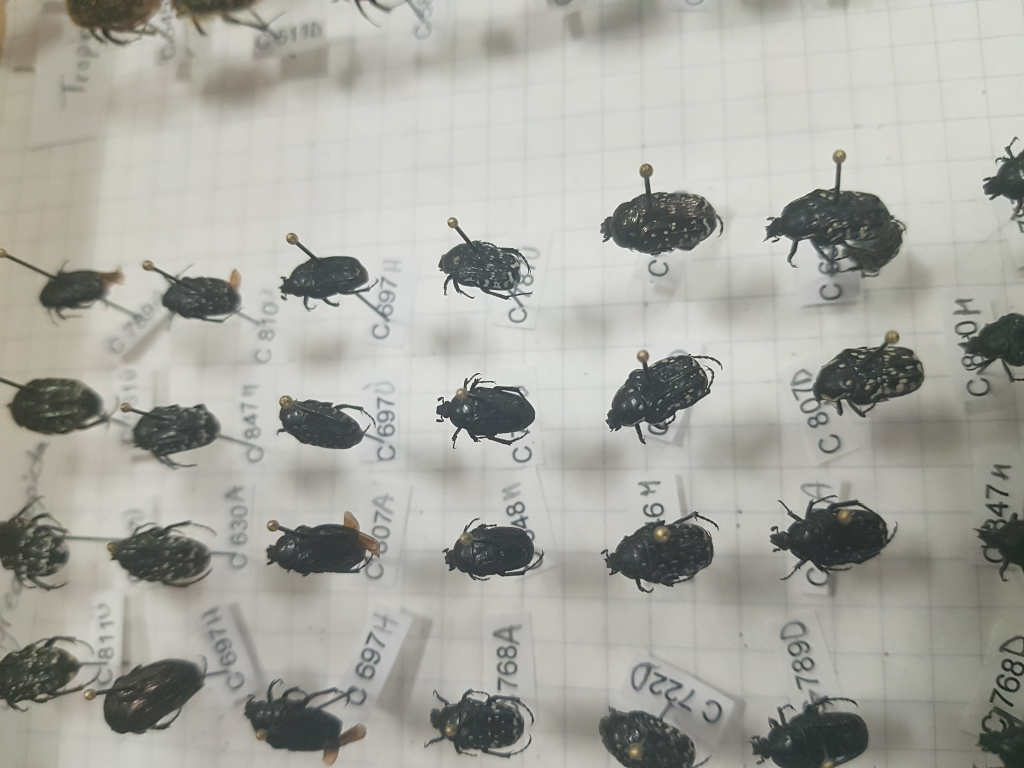Oxythyrea_albopicta: (595, 186, 728, 268), (439, 512, 554, 593), (435, 371, 541, 452)
